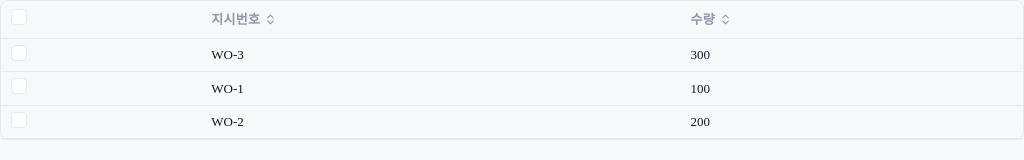
Test: DataTable › 전체 선택 체크박스로 모든 행을 선택한다
The width and height of the screenshot is (1024, 160).
Click the checkbox named "전체 선택".
click(19, 17)  # box [11, 9, 27, 25]
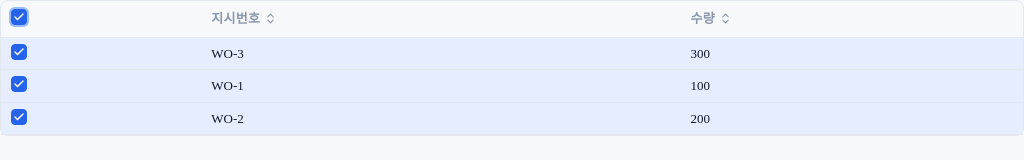
Now the checkbox named "행 선택" in the row of "WO-3" is checked, box [11, 44, 27, 60]
Now the checkbox named "행 선택" in the row of "WO-1" is checked, box [11, 76, 27, 92]
Now the checkbox named "행 선택" in the row of "WO-2" is checked, box [11, 108, 27, 124]
